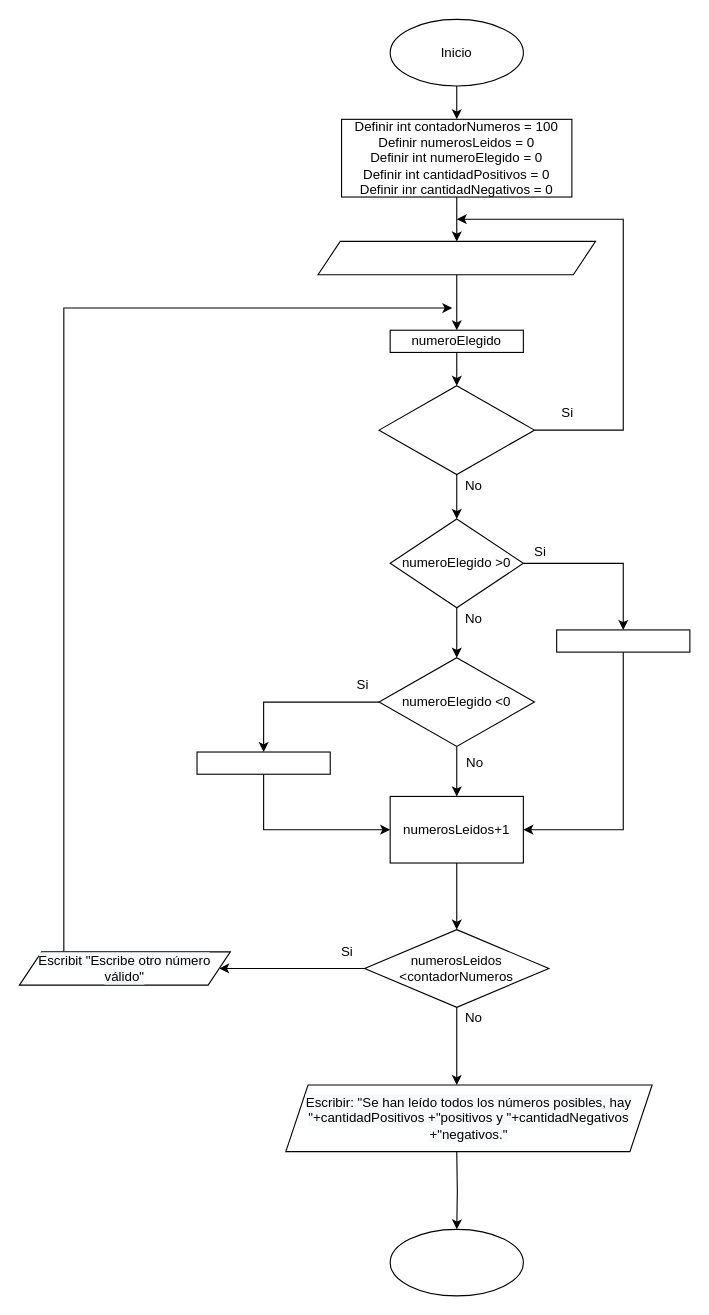
Image size: 709x1315. Some labels were removed from this diagram. The shapes that lost their labels are listed below. From the top down, each one's box as (x1, y1, x2, y2) in pixels, then its label:
(317, 240, 596, 275): Escribir: "Introduzca un número válido:"
(378, 385, 534, 475): numeroElegido == null
(556, 629, 690, 652): cantidadPositivos +1
(196, 751, 330, 774): cantidadNegativos +1
(389, 1228, 523, 1296): Fin
